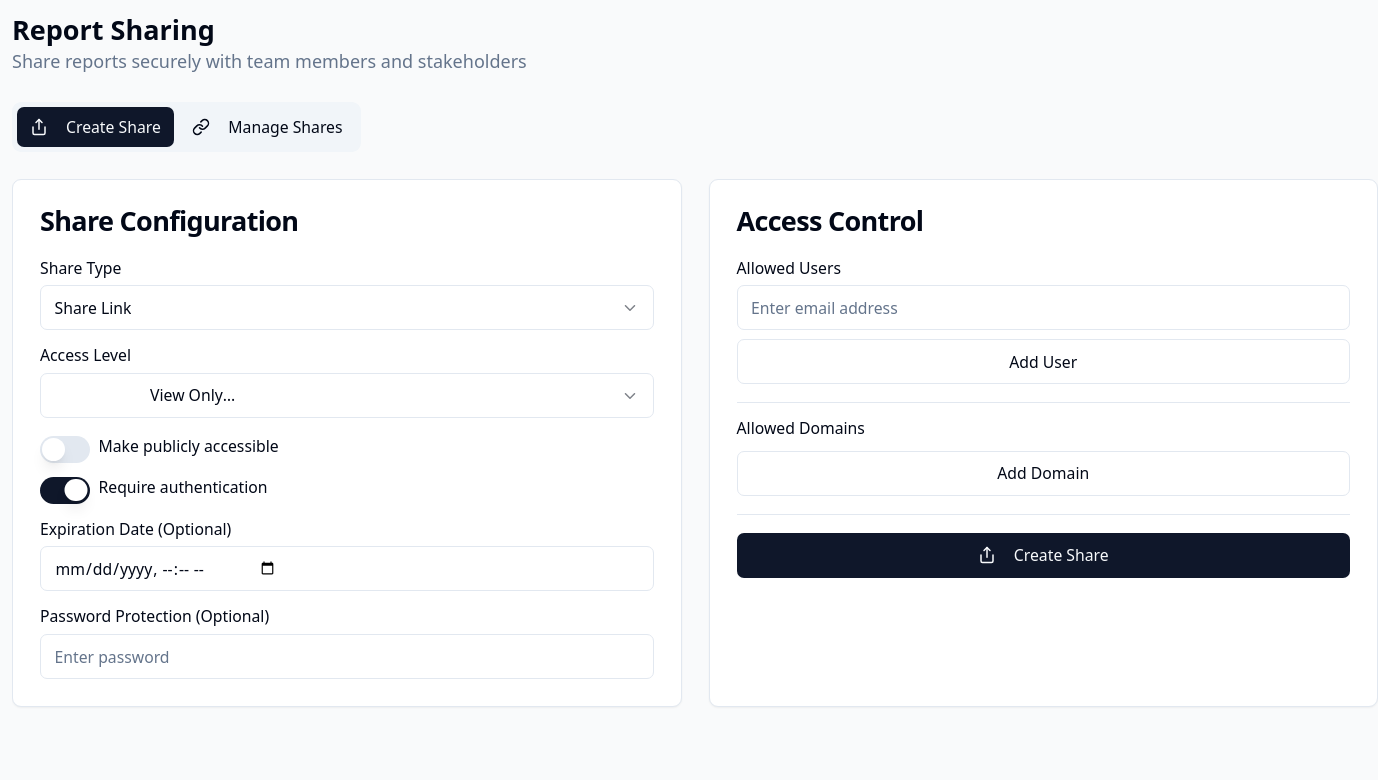
ReportSharing › allows adding and removing allowed users
The image size is (1378, 780).
Add user email
Step 1. Type "user@example.com" into the field with placeholder "Enter email address" → coordinates (1043, 308), box [736, 285, 1350, 330]
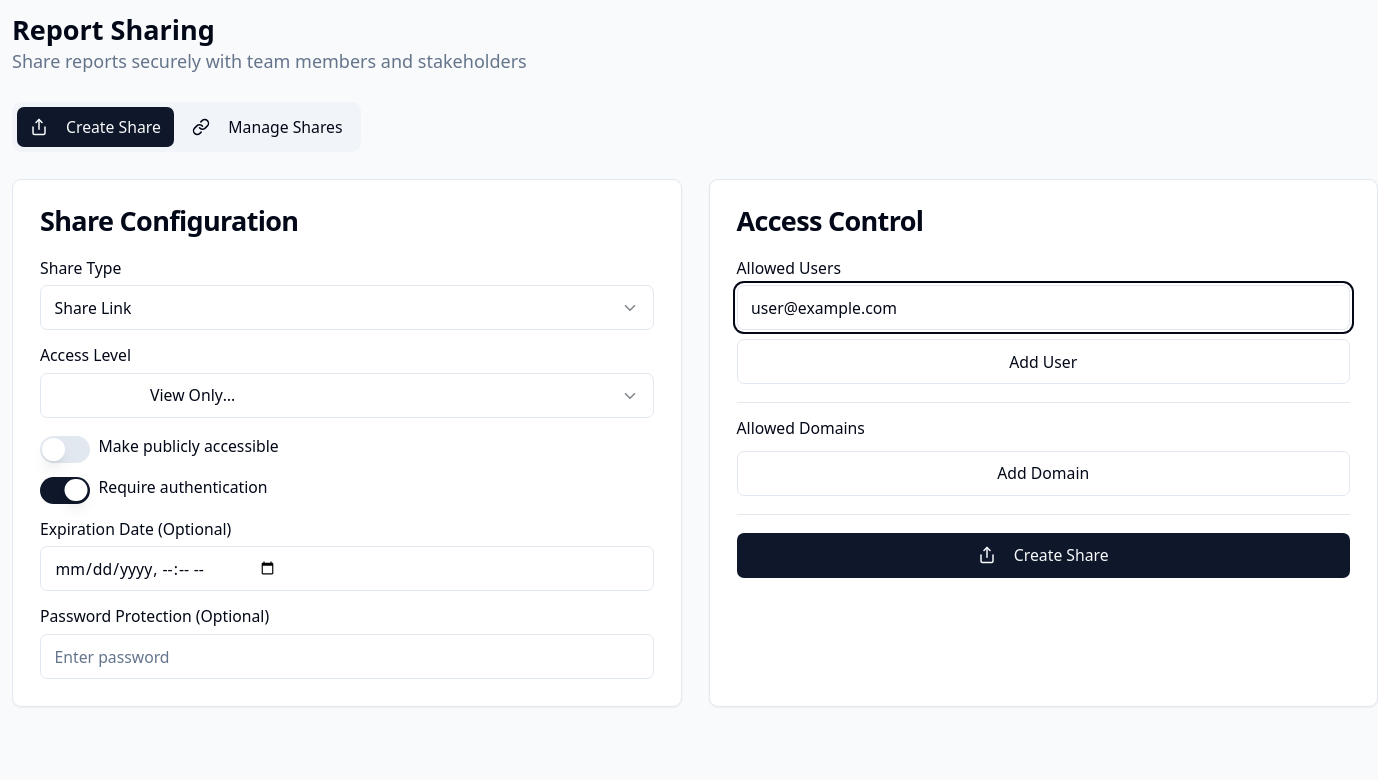
Add another user
Step 2. Click the button "Add User" → coordinates (1043, 362), box [736, 339, 1350, 384]
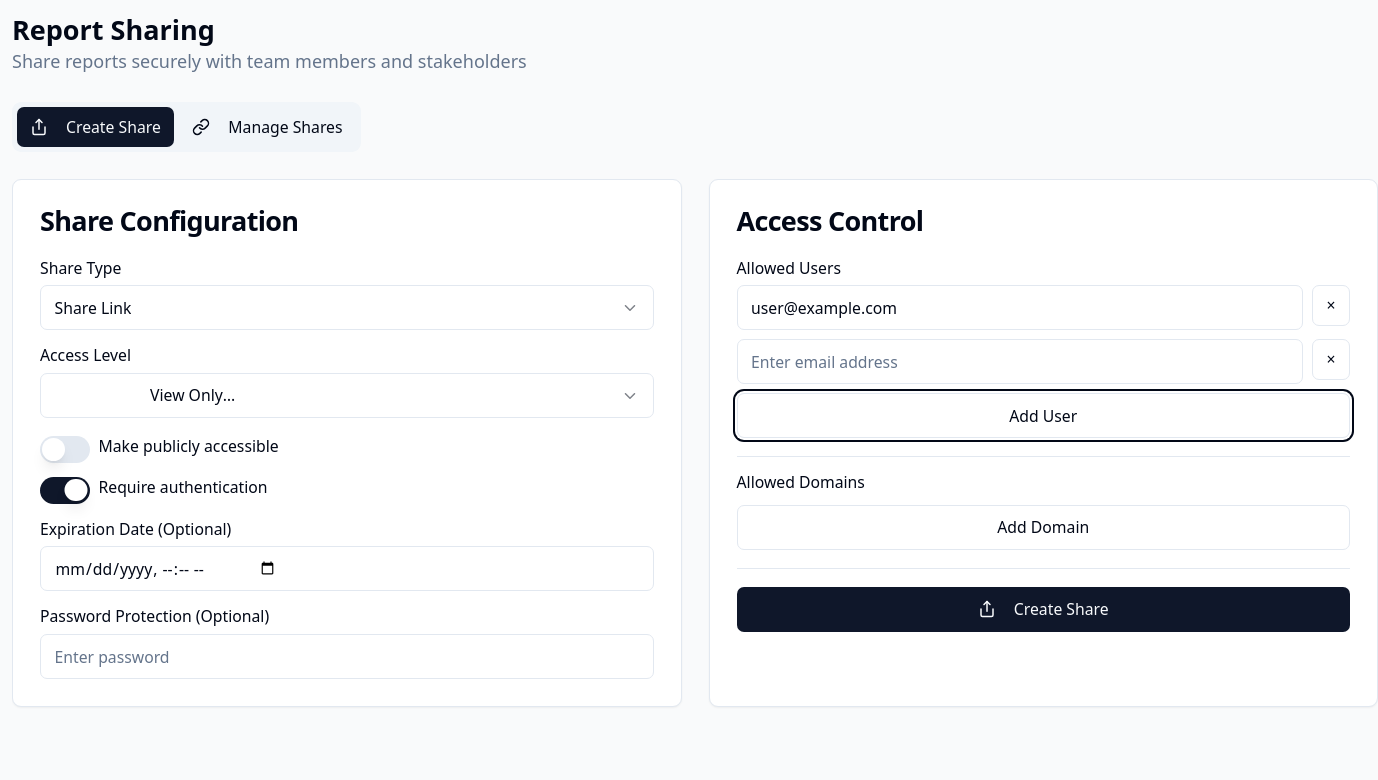
Expected: the number of fields with placeholder "Enter email address" is 2
Step 3. Type "admin@example.com" into the field with placeholder "Enter email address" → coordinates (1020, 362), box [736, 339, 1303, 384]
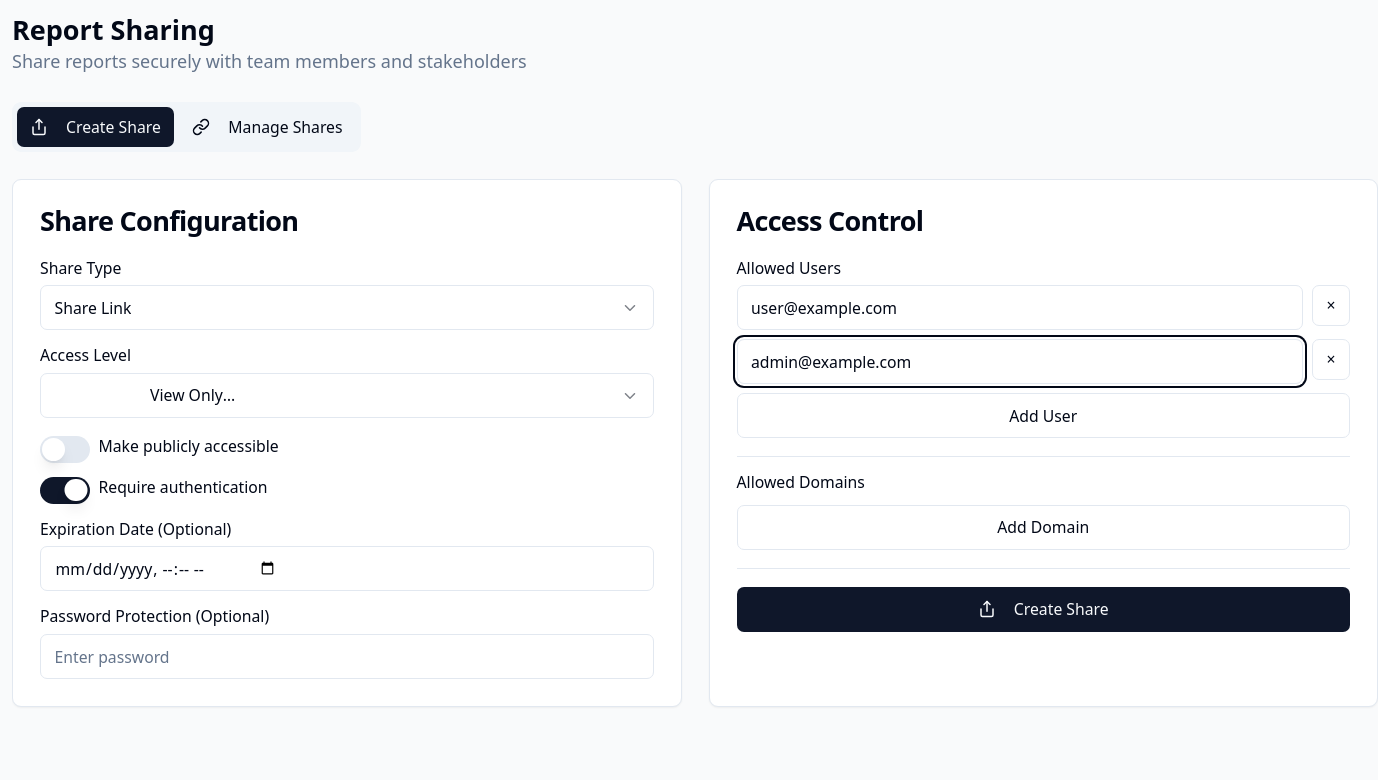
Remove a user
Step 4. Click the 1st button "×" → coordinates (1331, 306), box [1312, 285, 1350, 326]
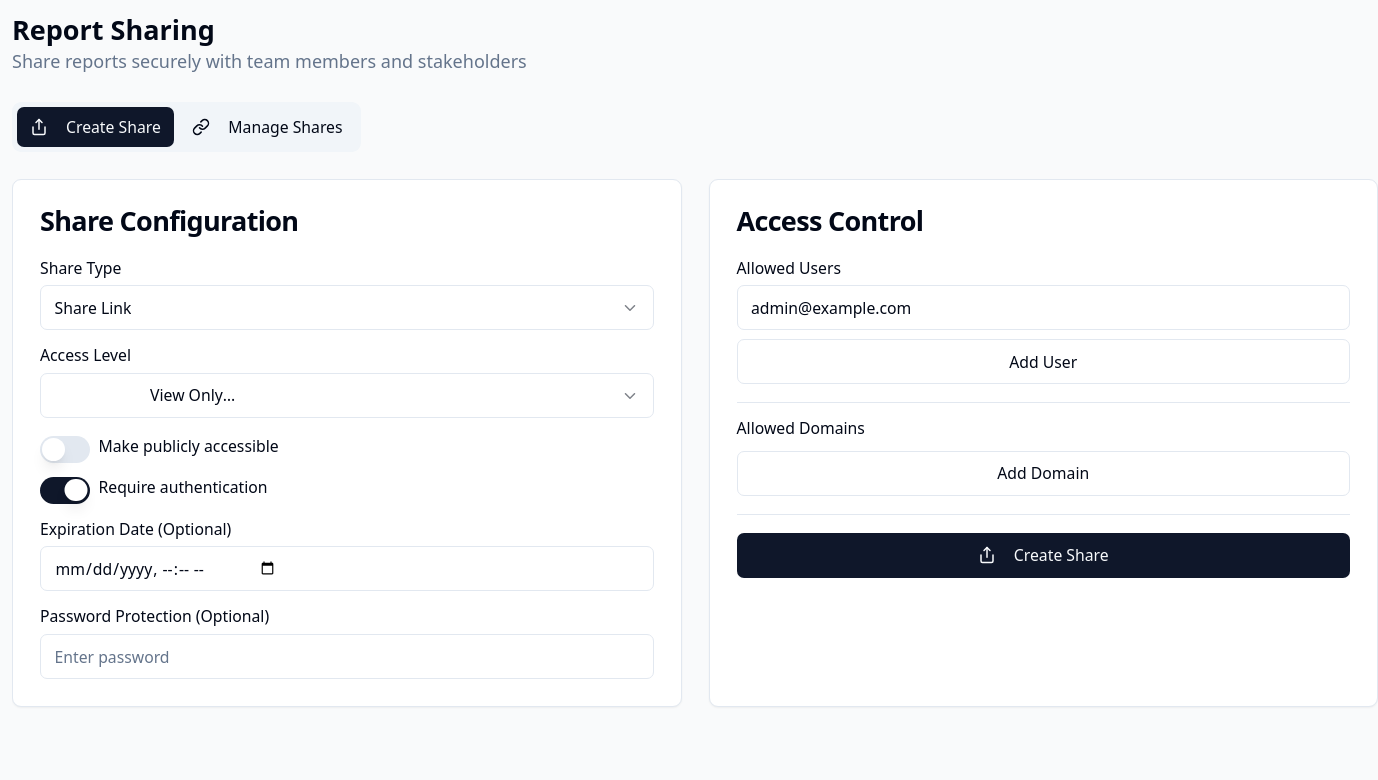
Expected: the number of fields with placeholder "Enter email address" is 1, [736, 285, 1350, 330]
